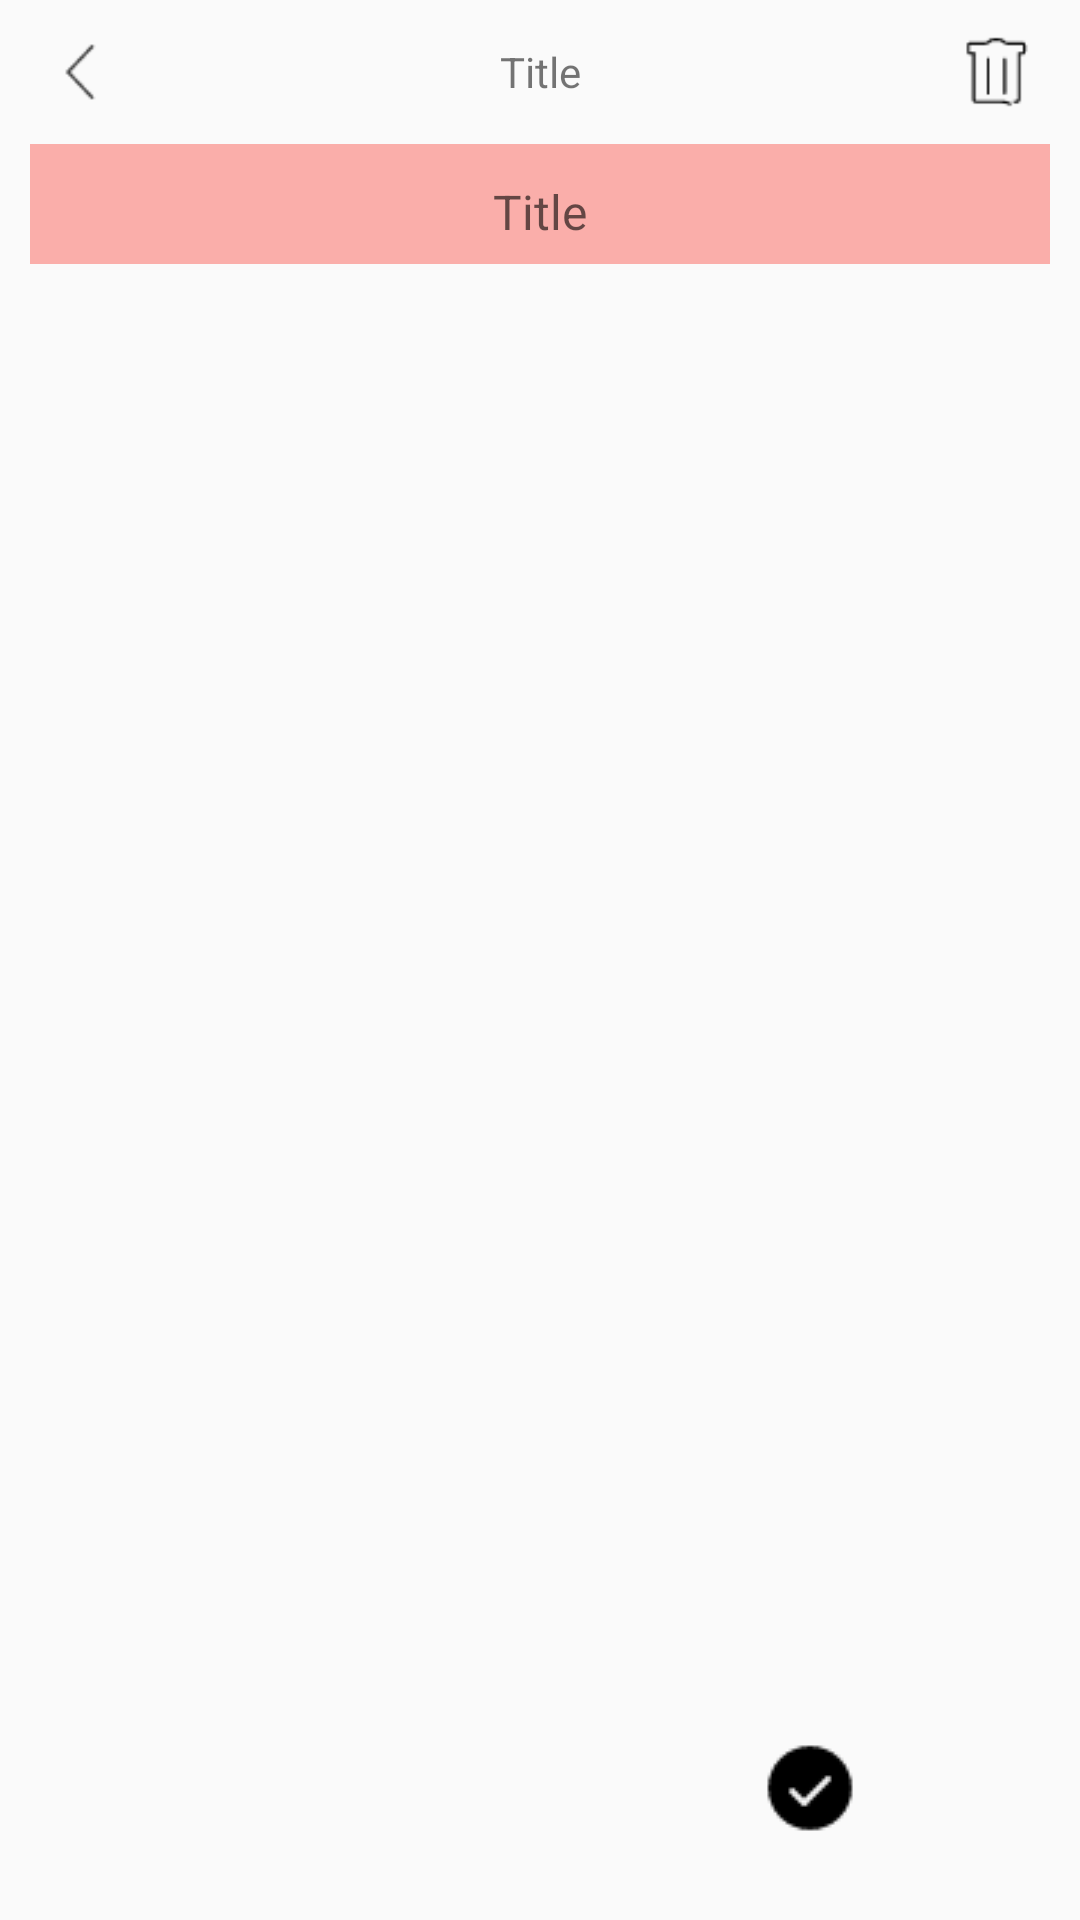

Where to tap for icons on this 1080x1920 app screen, as [x,y]:
back: [80,72]
del: [997,71]
